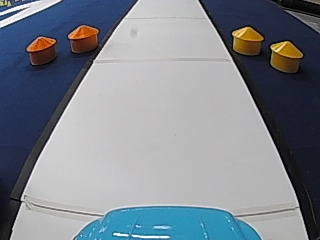granary: (267, 38, 303, 72), (229, 24, 264, 55), (66, 22, 99, 53), (25, 33, 56, 65)
